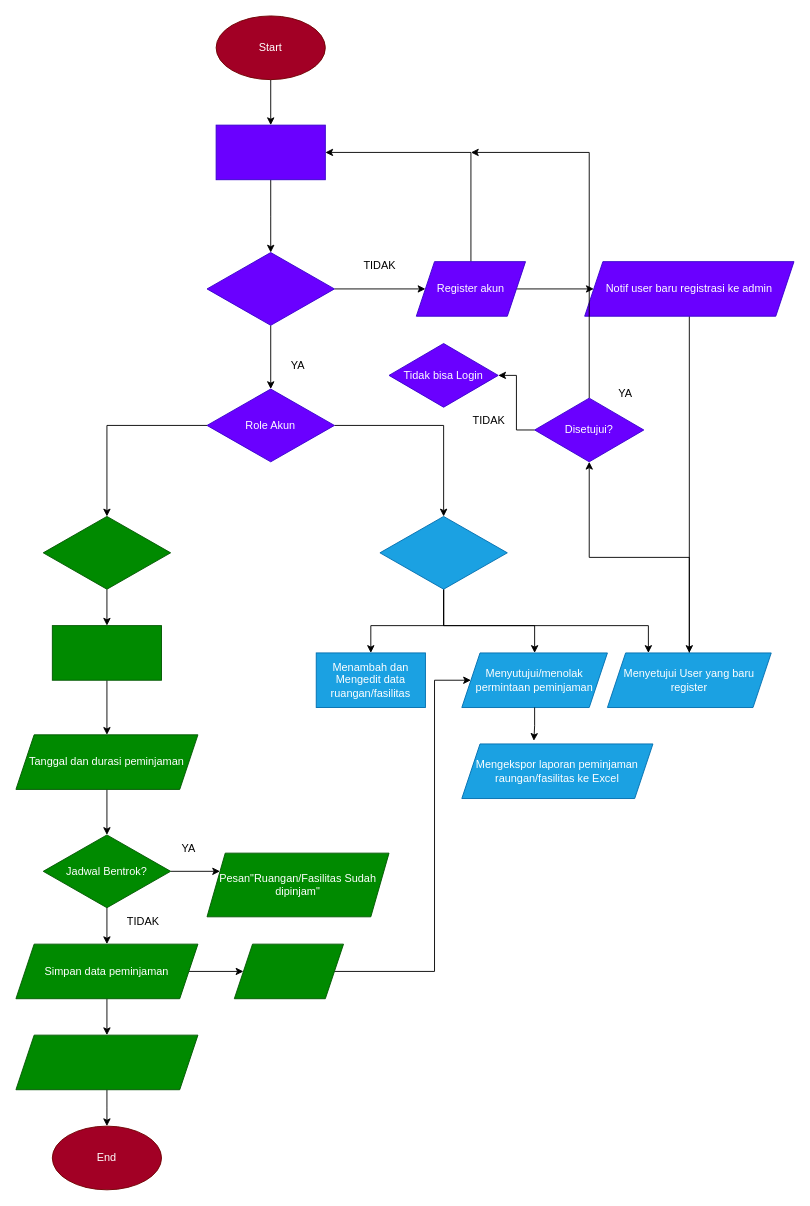
Image size: 810x1206. Some labels were removed from this diagram. The shapes that lost their labels are listed below. From the top down, each one's box as (x1, y1, x2, y2) in pixels, then its label:
(215, 124, 325, 180): Login User
(206, 252, 334, 325): Sudah register?
(42, 516, 171, 589): User siswa/admin
(379, 516, 507, 589): Admin
(51, 625, 162, 680): Pilih Fasilitas/ruangan
(233, 943, 344, 999): Kirim Notifikasi peminjaman ke Admin
(15, 1034, 198, 1090): Tampilkan status dan informasi
